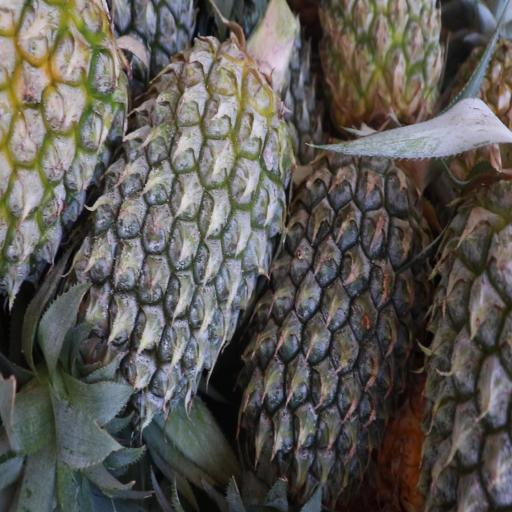------------------------------: (0, 0, 128, 282), (320, 0, 443, 137)
